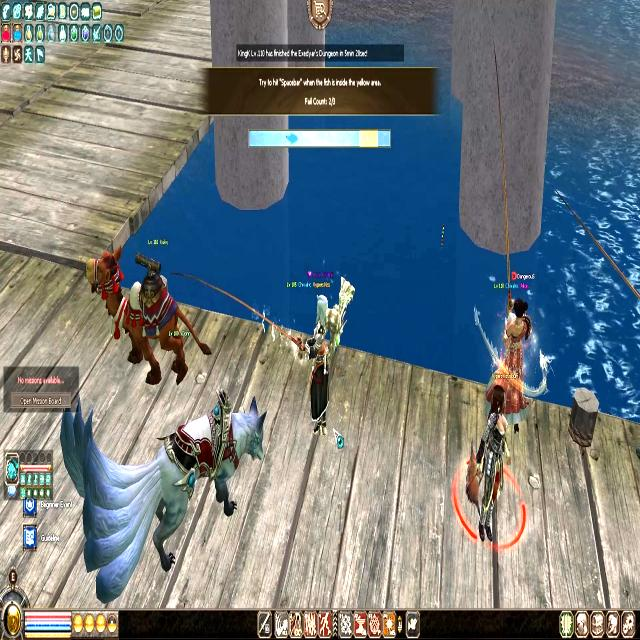fishes: (285, 131, 297, 145)
